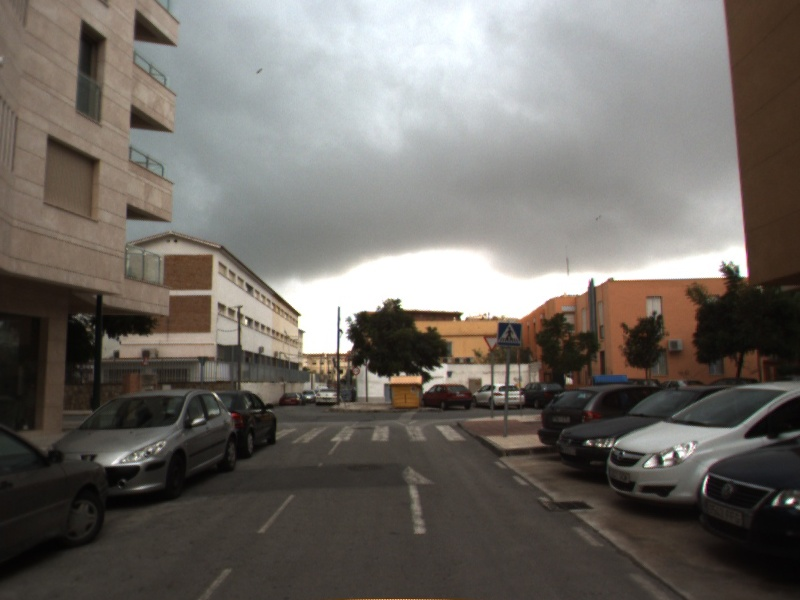STRAIGHT: (400, 463, 439, 536)
